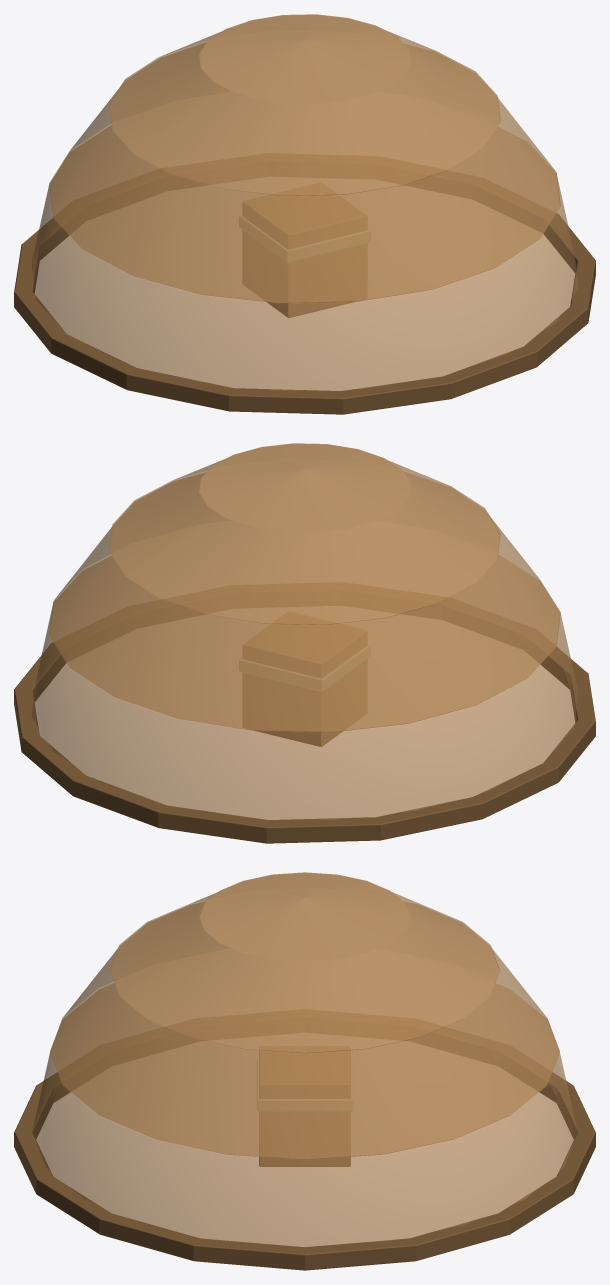
File: box_fort.glb
The picture shows the model from 3 angles, top to bottom: view 1: azimuth 30°, elevation 25°; view 2: azimuth 150°, elevation 25°; view 3: azimuth 270°, elevation 25°; orthographic projection.
Parts seen in each view (by area): view 1: dome_0, dome_1, dome_2, dome_3, emitter_box, base_ring_5, base_ring_4, base_ring_6, base_ring_3, base_ring_7, base_ring_2, emitter_tape (+8 smaller); view 2: dome_0, dome_1, dome_2, dome_3, emitter_box, base_ring_10, base_ring_11, base_ring_9, base_ring_12, base_ring_8, base_ring_13, emitter_tape (+8 smaller); view 3: dome_0, dome_1, dome_2, dome_3, emitter_box, base_ring_0, base_ring_15, base_ring_14, base_ring_1, base_ring_13, base_ring_2, emitter_tape (+8 smaller).
Part boxes in pixels (x1,y1,x2,y2): dome_0: (31,125,578,390); dome_1: (49,43,560,303); dome_2: (109,15,500,196); dome_3: (199,14,410,103); emitter_box: (243,195,366,317); base_ring_5: (229,388,343,414); base_ring_4: (338,376,451,414); base_ring_6: (126,367,231,411); base_ring_3: (440,346,537,398); base_ring_7: (51,332,138,389); base_ring_2: (522,304,588,366); emitter_tape: (239,216,370,261); dome_0: (31,554,578,819); dome_1: (49,472,560,732); dome_2: (109,444,500,625); dome_3: (199,443,410,532); emitter_box: (243,624,366,746); base_ring_10: (266,817,380,843); base_ring_11: (158,805,271,843); base_ring_9: (377,797,483,840); base_ring_12: (72,775,165,827); base_ring_8: (471,762,558,818); base_ring_13: (21,733,87,795); emitter_tape: (239,645,370,690); dome_0: (32,983,577,1247); dome_1: (50,902,559,1159); dome_2: (109,873,500,1053); dome_3: (199,872,410,961); emitter_box: (259,1051,350,1166); base_ring_0: (193,1238,307,1270); base_ring_15: (302,1238,416,1270); base_ring_14: (407,1212,510,1260); base_ring_1: (99,1212,199,1260); base_ring_13: (499,1174,573,1233); base_ring_2: (36,1174,110,1233); emitter_tape: (257,1060,352,1110).
Size of the model in its own units: 2.53 by 1.2 by 2.53.
